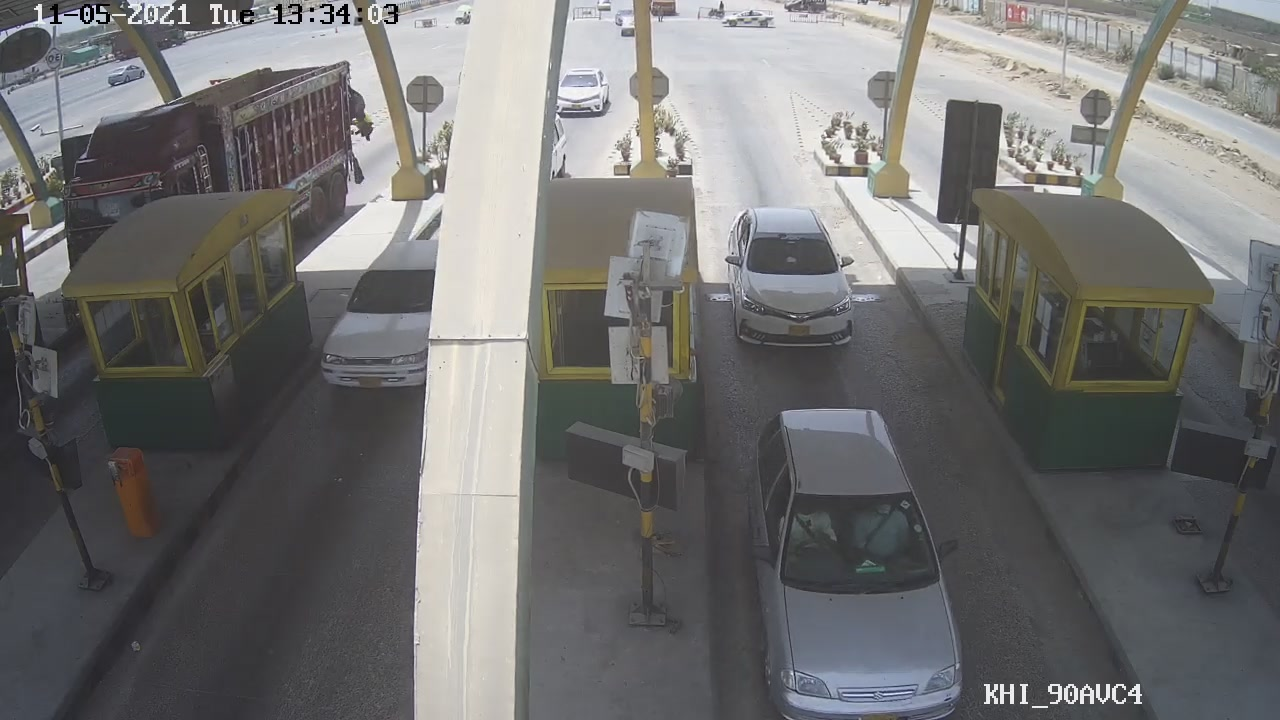F1: (722, 203, 861, 351)
